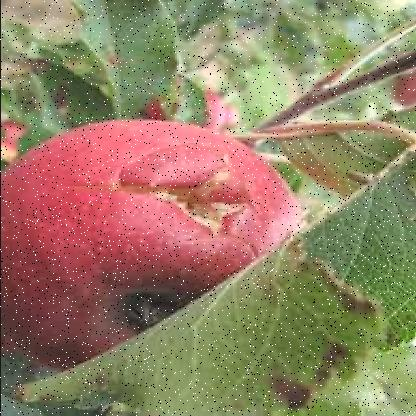damaged_apple: (13, 127, 296, 361)
